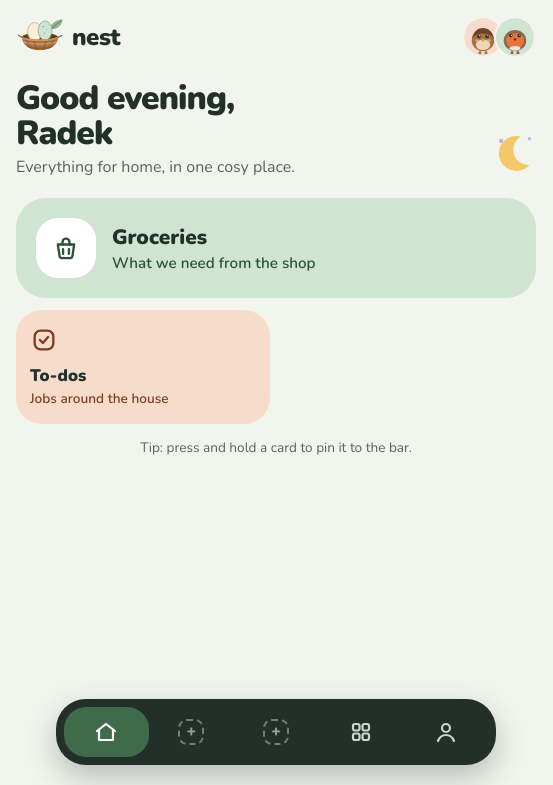
the bottom bar › All lists the modules with pin buttons
What coordinates should you click on to do the following:
click the button named "Everything"
I would click on:
 (361, 732)
Its box is 318,707 -> 403,757.
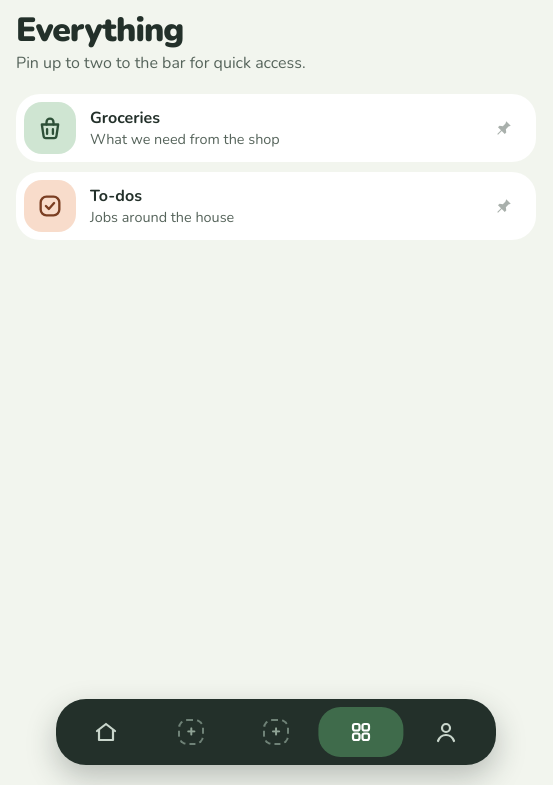
What coordinates should you click on to do the following:
click the button named "Pin To-dos"
I would click on:
 (504, 206)
Its box is 480,182 -> 528,230.
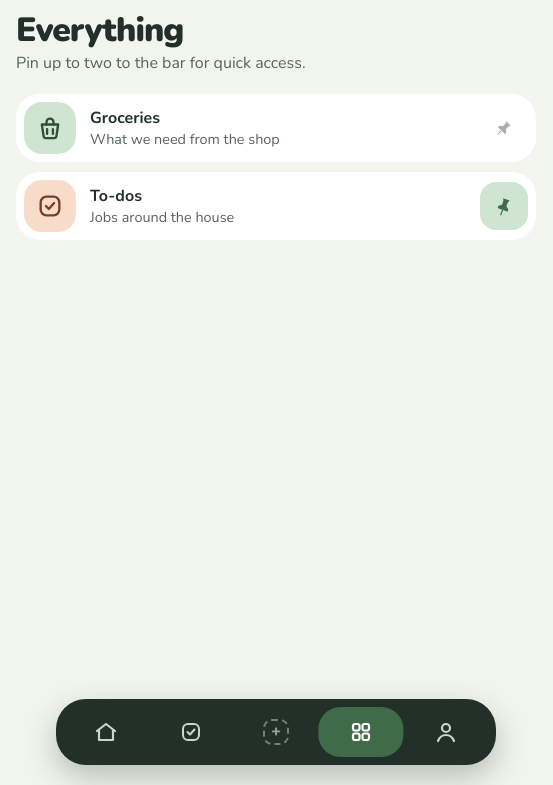
Check: the button named "Unpin To-dos" is pressed, box 480,182 -> 528,230
